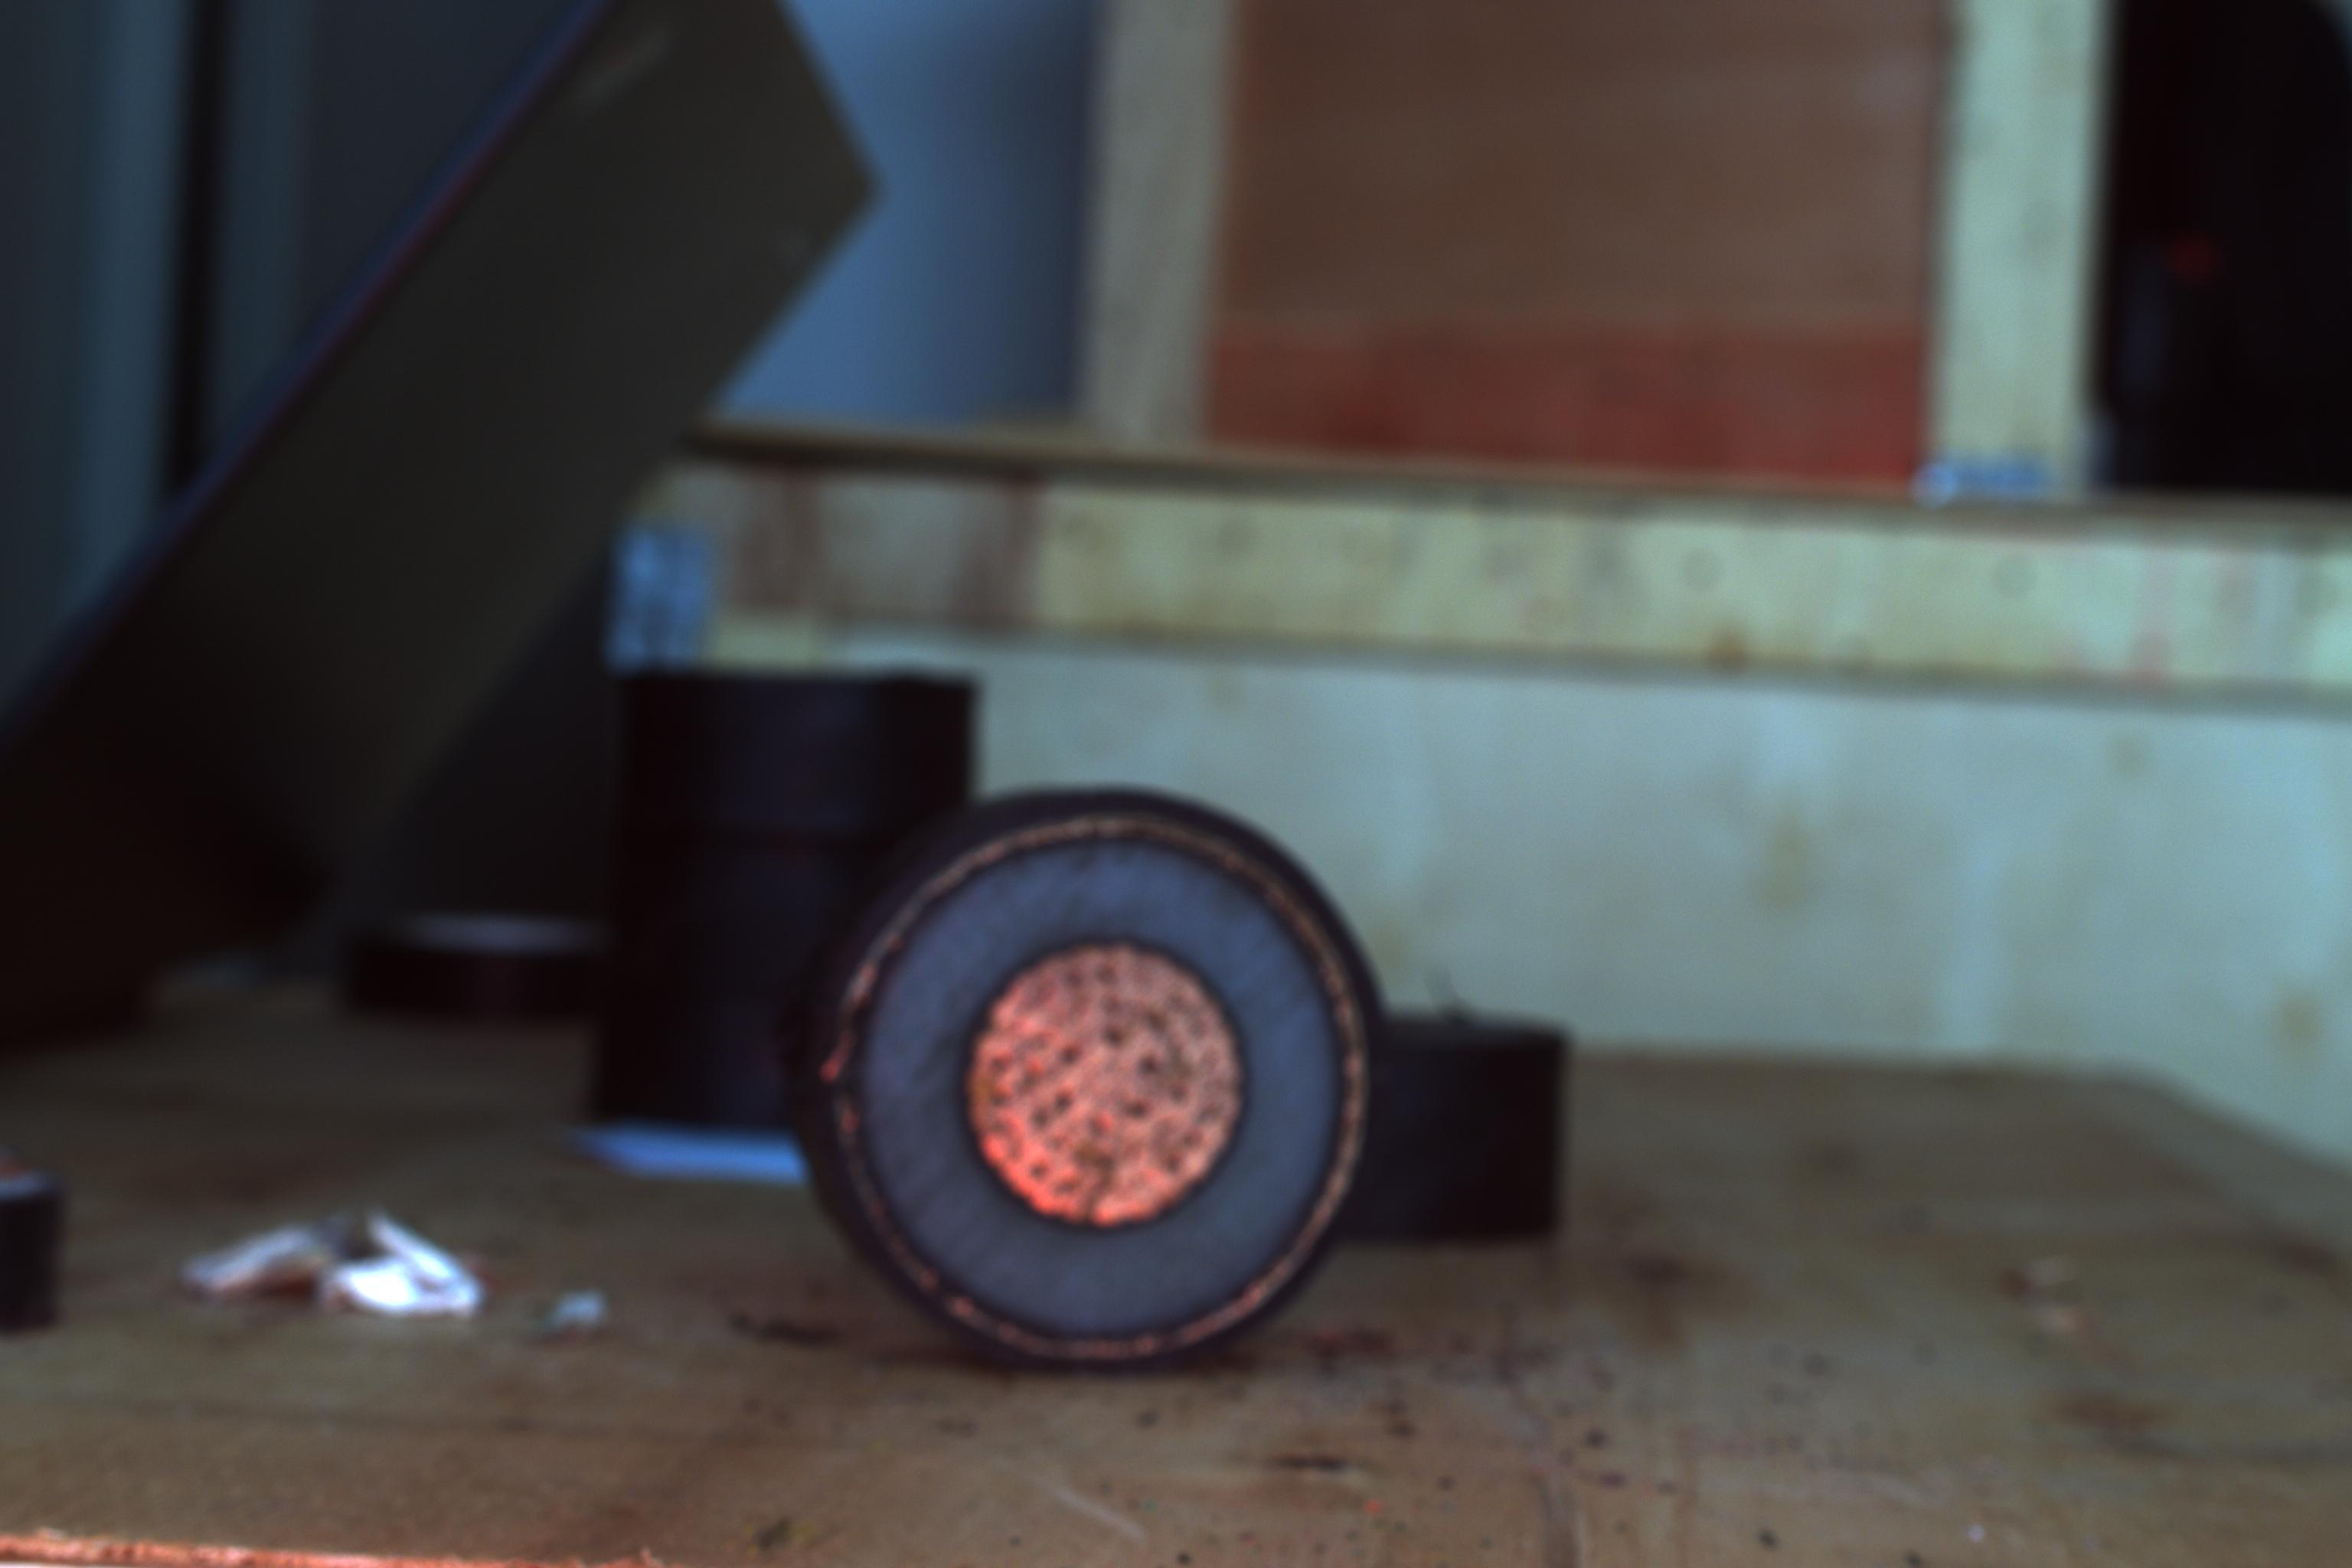YJV_26_35kV_1x630: (793, 784, 1384, 1382)
